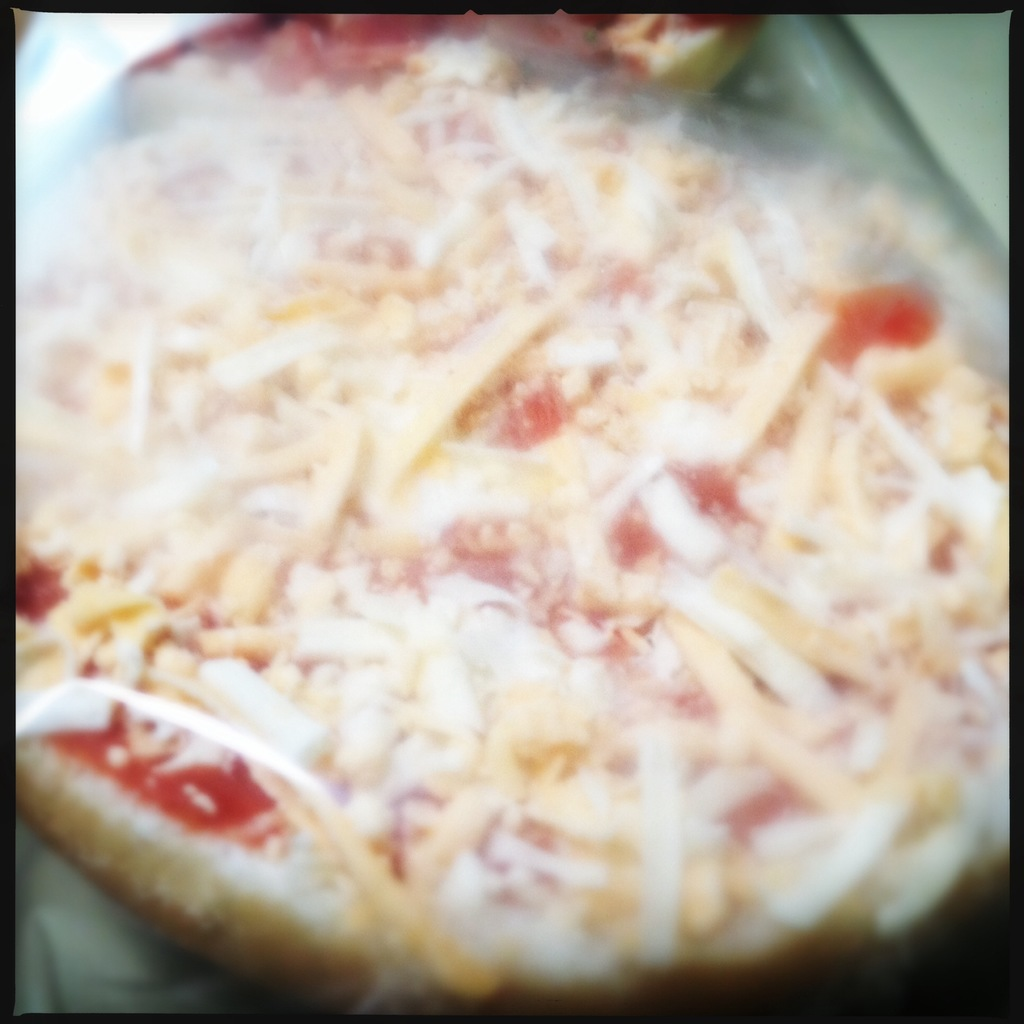Pizza: (12, 13, 1011, 970)
